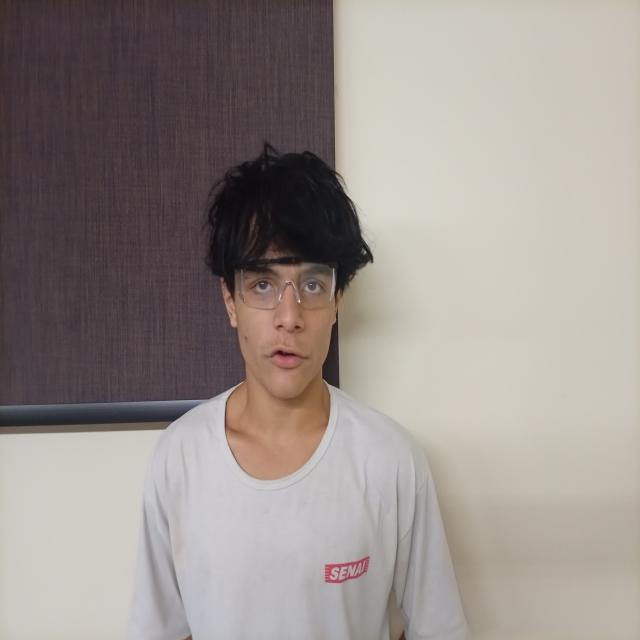oculos-epi: (233, 254, 338, 311)
